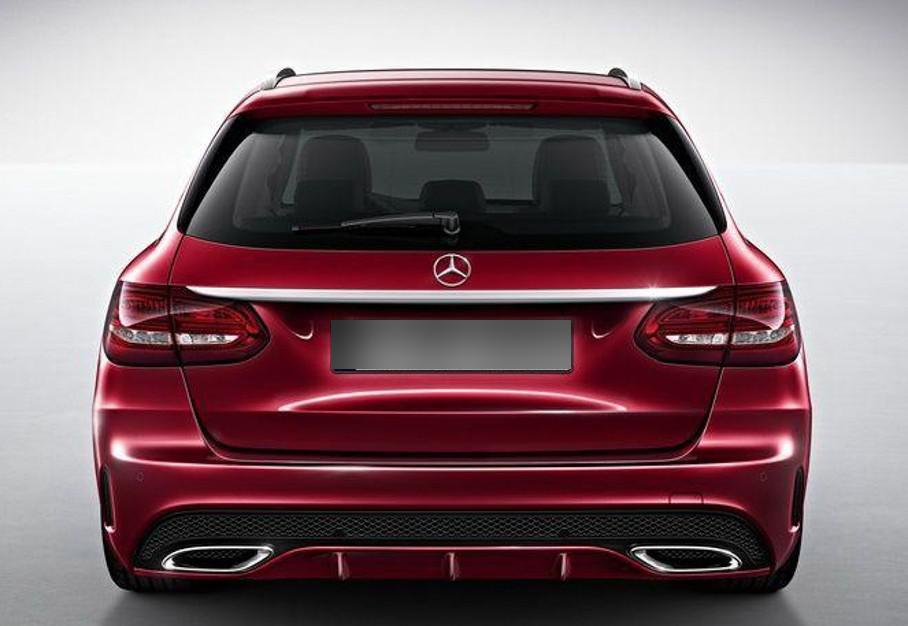Wagon: (93, 67, 810, 594)
